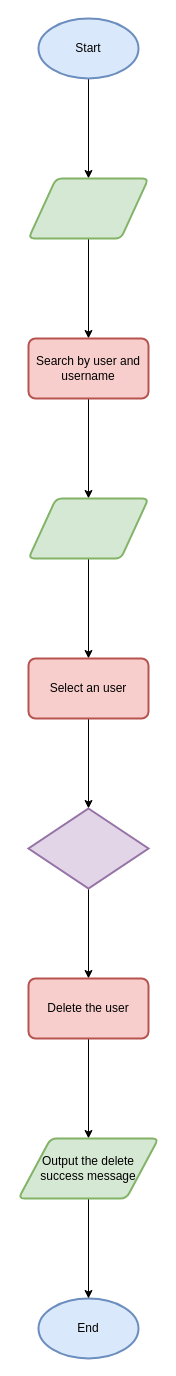
Image size: 176x1376. Some labels were removed from this diagram. The shapes that lost their labels are listed below. From the top down, each one's centre as x and y in pixels, then its label:
(x=88, y=208): Input user or username
(x=88, y=528): List users
(x=88, y=848): Confirm delete?
